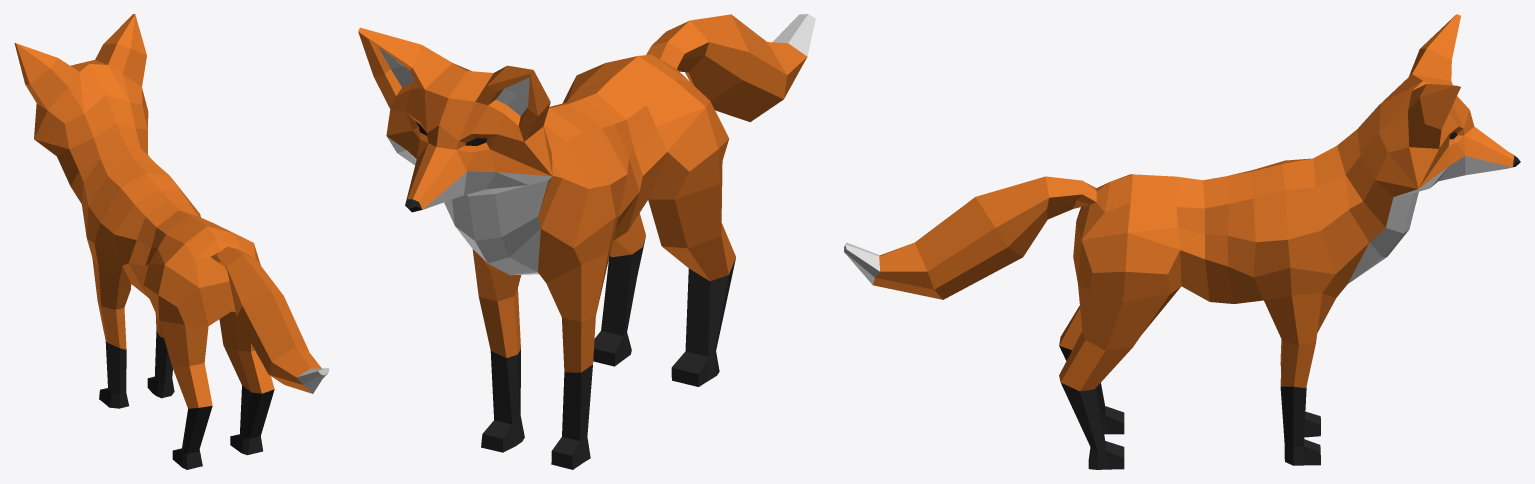
File: LowPolyFox.fbx
3 views of the same model, side by side, from view 1: azimuth 30°, elevation 25°; view 2: azimuth 150°, elevation 25°; view 3: azimuth 270°, elevation 25° (orthographic). The views are drawn at different scales.
Parts seen in each view (by area): view 1: Gigi; view 2: Gigi; view 3: Gigi.
Boxes of the visible parts, x1,y1,x2,y2 form: Gigi: (14, 14, 329, 469); Gigi: (358, 14, 815, 469); Gigi: (844, 14, 1520, 469).
Bounding box in the file's own units: 0.5555 × 2.22 × 1.43.
